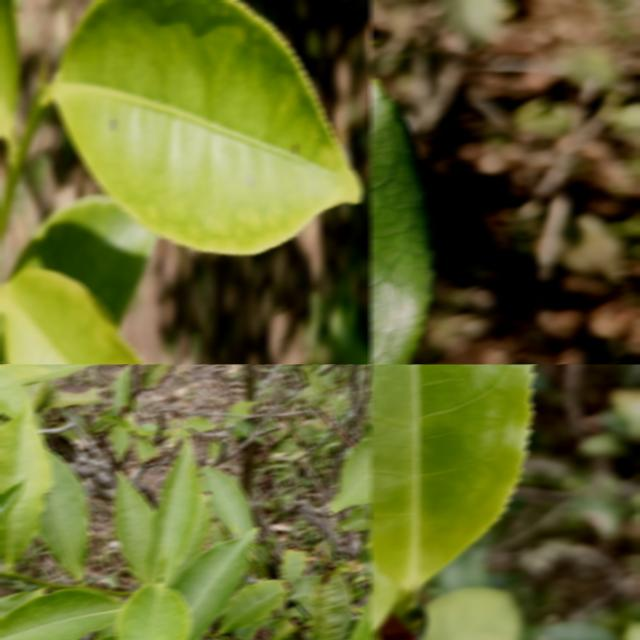Leaf: (48, 0, 362, 253), (370, 364, 533, 590), (13, 195, 158, 326), (0, 268, 145, 364), (170, 527, 258, 640), (0, 400, 52, 568), (146, 438, 200, 584), (37, 450, 90, 581), (0, 588, 123, 640), (423, 586, 523, 640), (113, 472, 154, 584), (115, 583, 191, 640), (217, 579, 288, 633), (200, 465, 254, 532), (328, 438, 372, 512), (309, 569, 352, 640), (326, 299, 372, 364), (40, 383, 105, 408), (0, 366, 31, 417), (0, 478, 25, 527), (281, 547, 307, 586), (112, 365, 131, 416), (36, 364, 94, 380), (140, 364, 174, 389), (175, 416, 215, 436), (338, 506, 370, 531), (108, 426, 131, 460), (268, 617, 302, 640), (0, 364, 48, 379), (134, 436, 158, 462), (98, 415, 136, 431), (292, 423, 318, 443), (272, 437, 300, 453), (306, 369, 322, 394), (232, 419, 253, 437), (227, 400, 251, 415), (134, 422, 159, 436), (258, 438, 266, 443)
